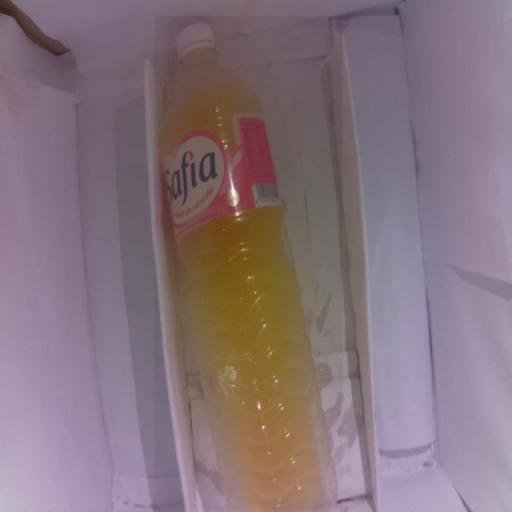plastic: (154, 16, 342, 510)
